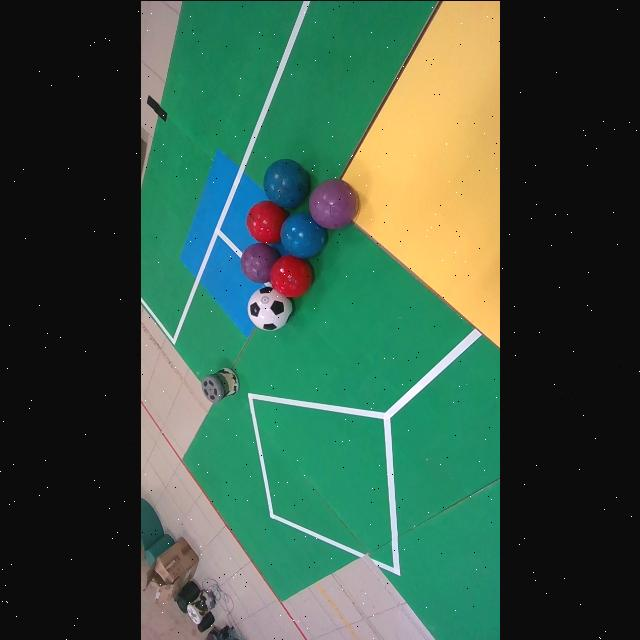B: (263, 158, 309, 206), (280, 211, 325, 257)
P: (309, 177, 358, 228), (239, 243, 280, 282)
R: (246, 200, 289, 243), (270, 254, 311, 296)
